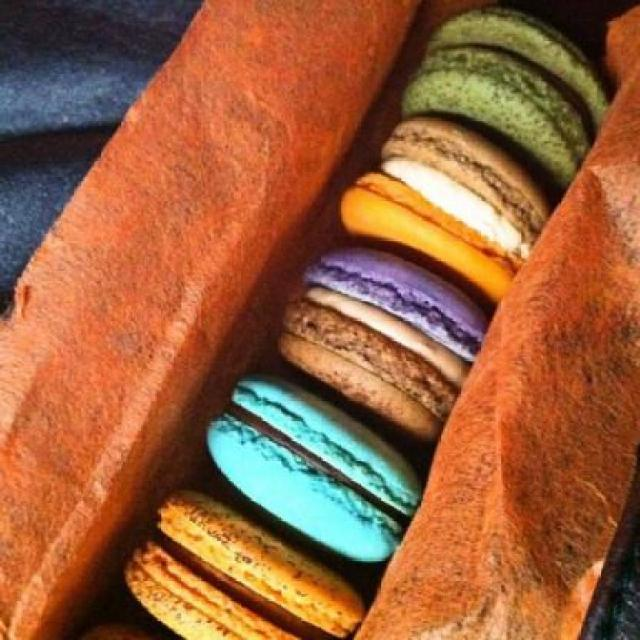Macaron: (118, 8, 624, 640)
